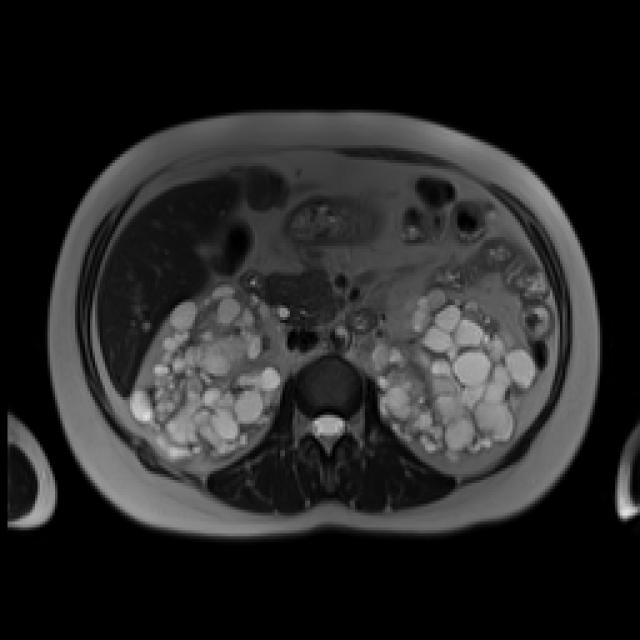sag: (128, 279, 282, 465)
sol: (362, 287, 538, 468)
